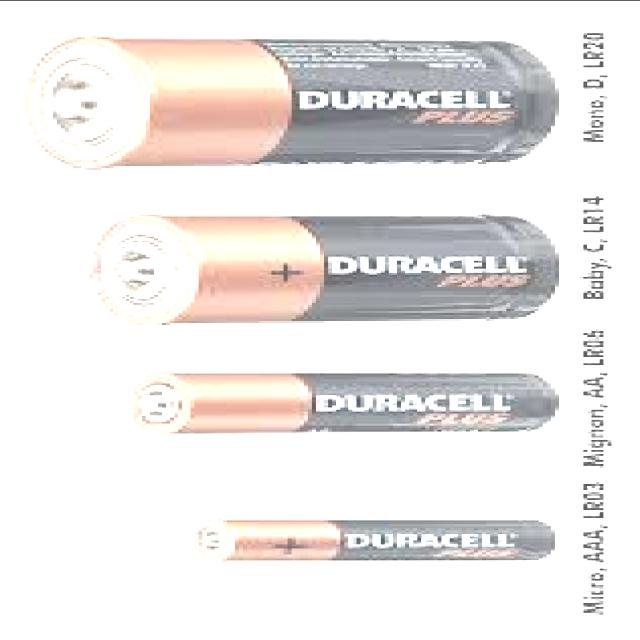AA: (125, 371, 556, 436)
AAA: (186, 519, 554, 564)
